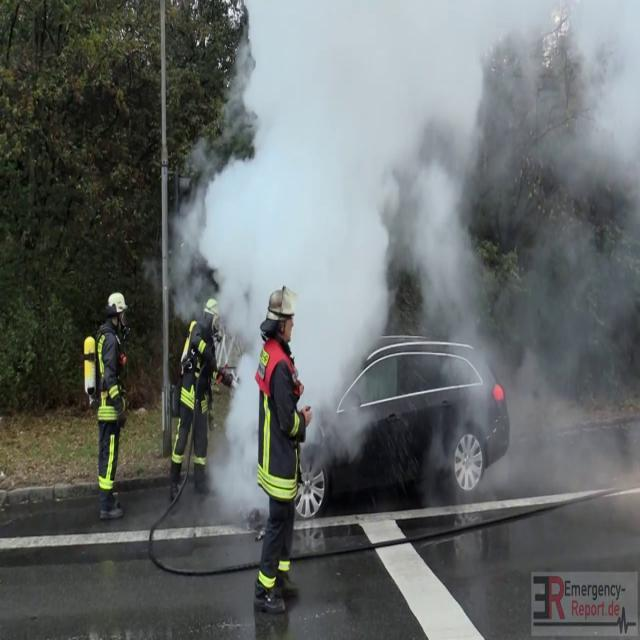Smoke: (191, 1, 639, 447)
